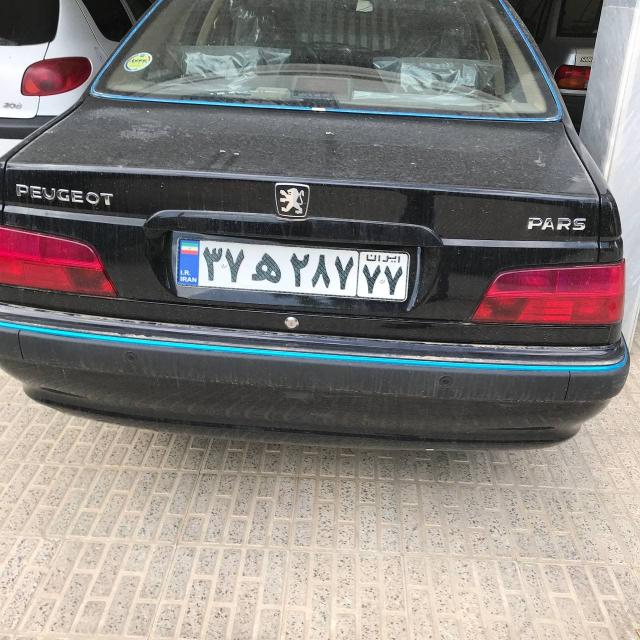Plates: (176, 238, 409, 300)
